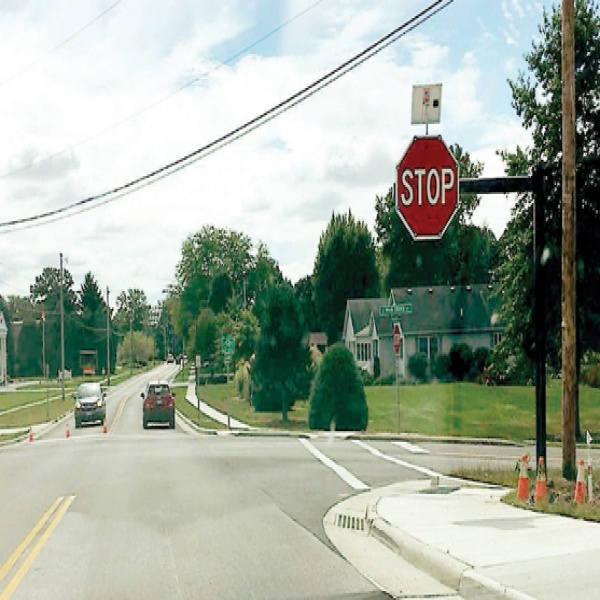stop: (393, 133, 461, 247)
